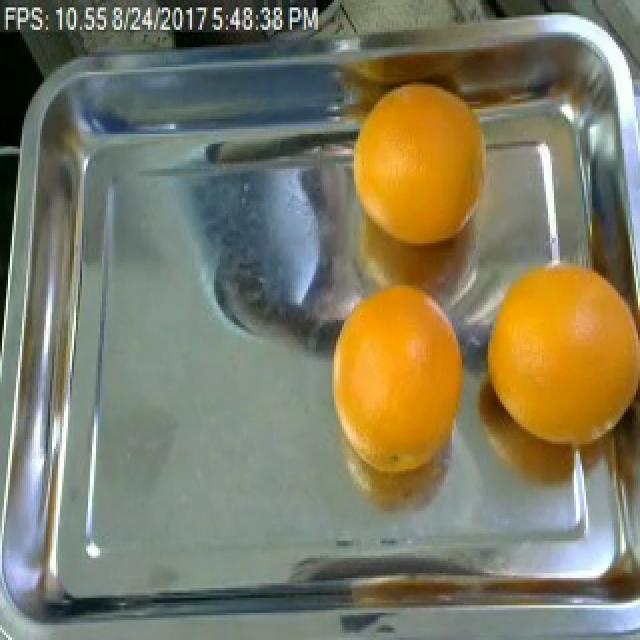Fruit: (332, 54, 502, 270)
